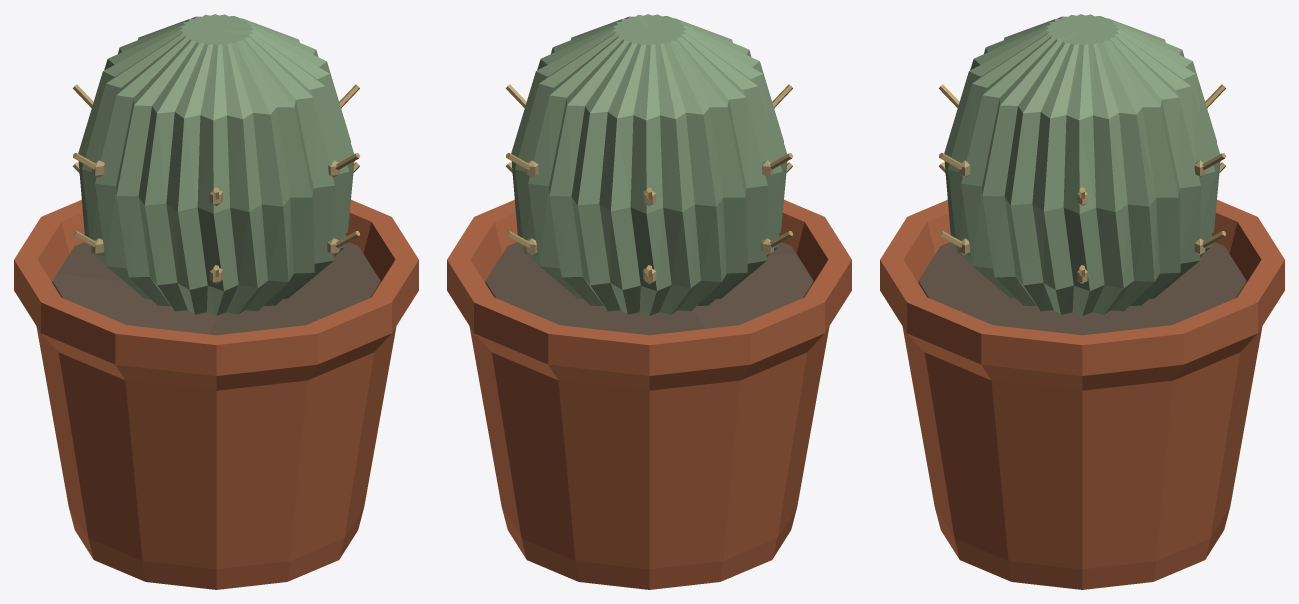
Rendered from new-multicostatus.glb.
3 renders of one model, left to right at view 1: azimuth 30°, elevation 25°; view 2: azimuth 150°, elevation 25°; view 3: azimuth 270°, elevation 25°, orthographic.
Visible parts, largest first — view 1: new-multicostatus/review-terra-vessel, new-multicostatus/ribbed-stem-001, new-multicostatus/review-rooted-soil; view 2: new-multicostatus/review-terra-vessel, new-multicostatus/ribbed-stem-001, new-multicostatus/review-rooted-soil; view 3: new-multicostatus/review-terra-vessel, new-multicostatus/ribbed-stem-001, new-multicostatus/review-rooted-soil.
Part boxes in pixels (left/top/right/bottom): new-multicostatus/review-terra-vessel: left=14, top=199, right=418, bottom=589; new-multicostatus/ribbed-stem-001: left=78, top=14, right=354, bottom=315; new-multicostatus/review-rooted-soil: left=52, top=242, right=380, bottom=335; new-multicostatus/review-terra-vessel: left=447, top=199, right=851, bottom=589; new-multicostatus/ribbed-stem-001: left=511, top=14, right=787, bottom=315; new-multicostatus/review-rooted-soil: left=485, top=242, right=813, bottom=335; new-multicostatus/review-terra-vessel: left=880, top=199, right=1284, bottom=589; new-multicostatus/ribbed-stem-001: left=944, top=14, right=1220, bottom=315; new-multicostatus/review-rooted-soil: left=918, top=242, right=1246, bottom=335.
Size of the model in its own units: 0.19 by 0.259 by 0.19.
Materials: 5 (5 with a texture image).
